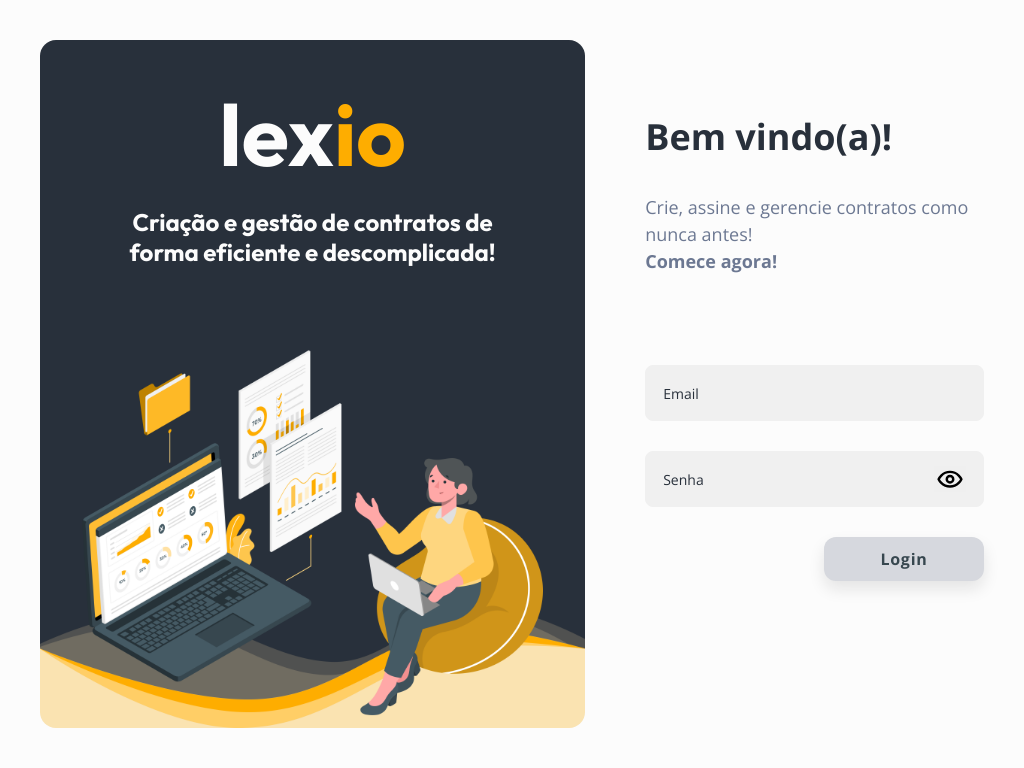
Test case: login page › should not be able to click login button without an email and password
Check: the submit button is disabled, box x1=824 y1=537 x2=984 y2=581
Type "a" into the field with placeholder "Email".
click(815, 393); type("a")  # box x1=645 y1=365 x2=984 y2=421
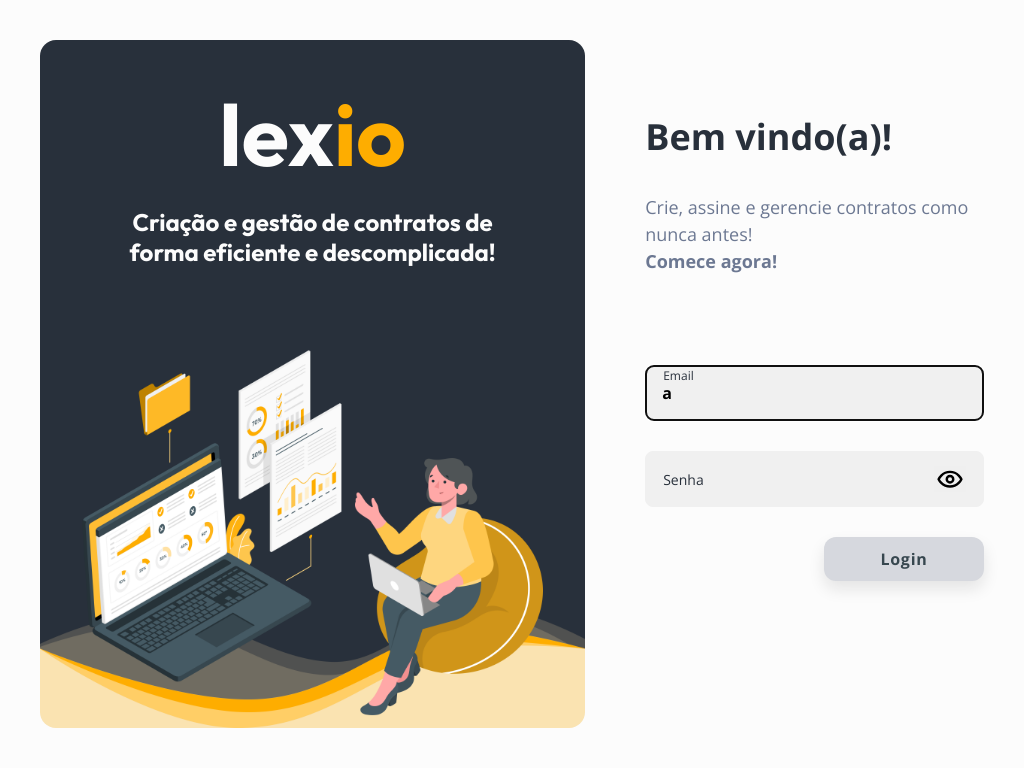
Check: the submit button is disabled, box x1=824 y1=537 x2=984 y2=581
Type "123456" into the password field with placeholder "Senha".
click(815, 479); type("123456")  # box x1=645 y1=451 x2=984 y2=507
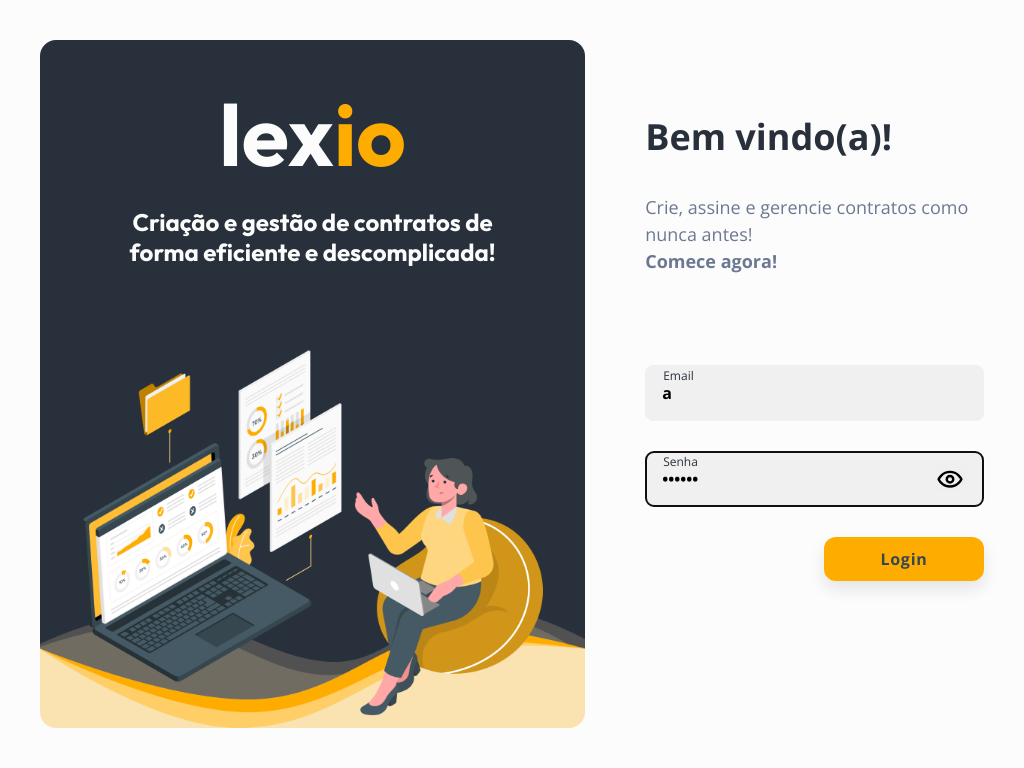
Check: the submit button is enabled
Clear the field with placeholder "Email" at (815, 393), box x1=645 y1=365 x2=984 y2=421
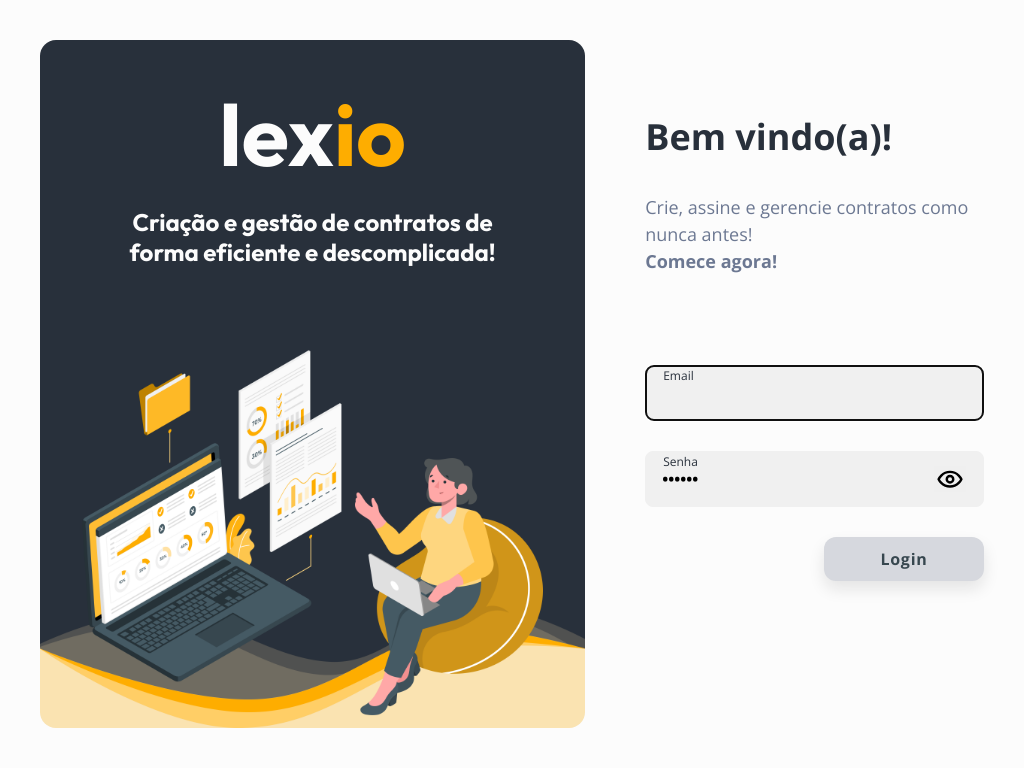
Check: the submit button is disabled, box x1=824 y1=537 x2=984 y2=581
